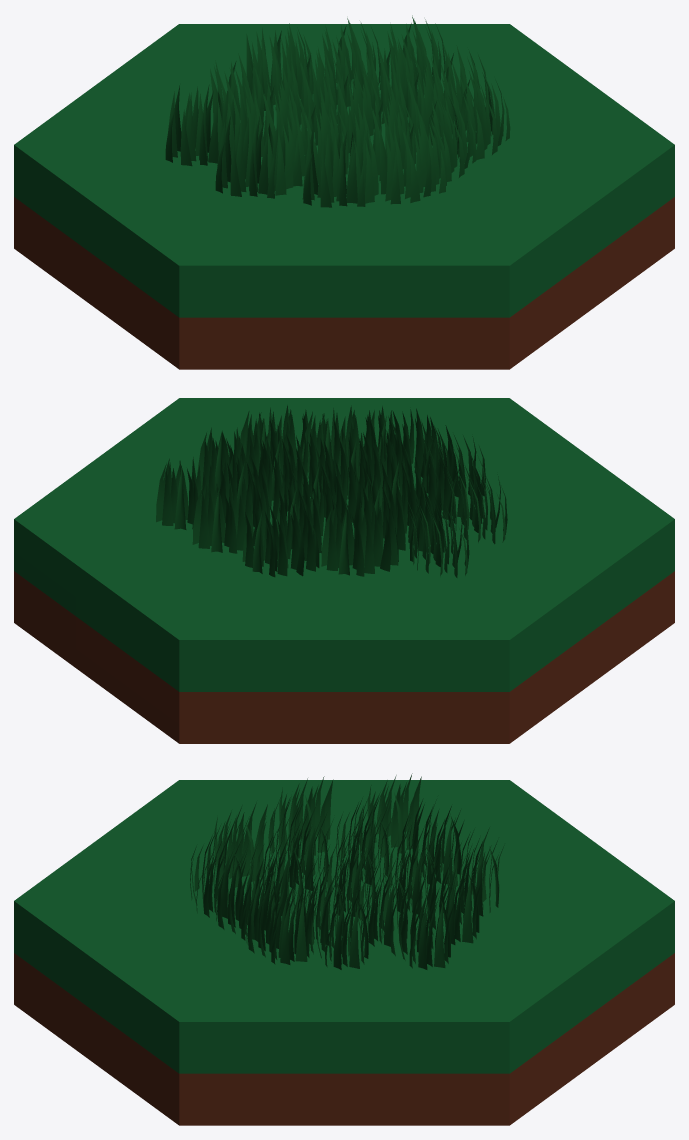
File: SM_GrassTallBig.FBX
3 views of the same model, one above another, from view 1: azimuth 30°, elevation 25°; view 2: azimuth 150°, elevation 25°; view 3: azimuth 270°, elevation 25° (orthographic).
Visible parts, largest first — view 1: SM_GrassTallBig; view 2: SM_GrassTallBig; view 3: SM_GrassTallBig.
Boxes of the visible parts, x1,y1,x2,y2 form: SM_GrassTallBig: [14, 15, 674, 369]; SM_GrassTallBig: [14, 398, 674, 743]; SM_GrassTallBig: [14, 773, 674, 1125].
Size of the model in its own units: 100 by 115 by 32.53.
